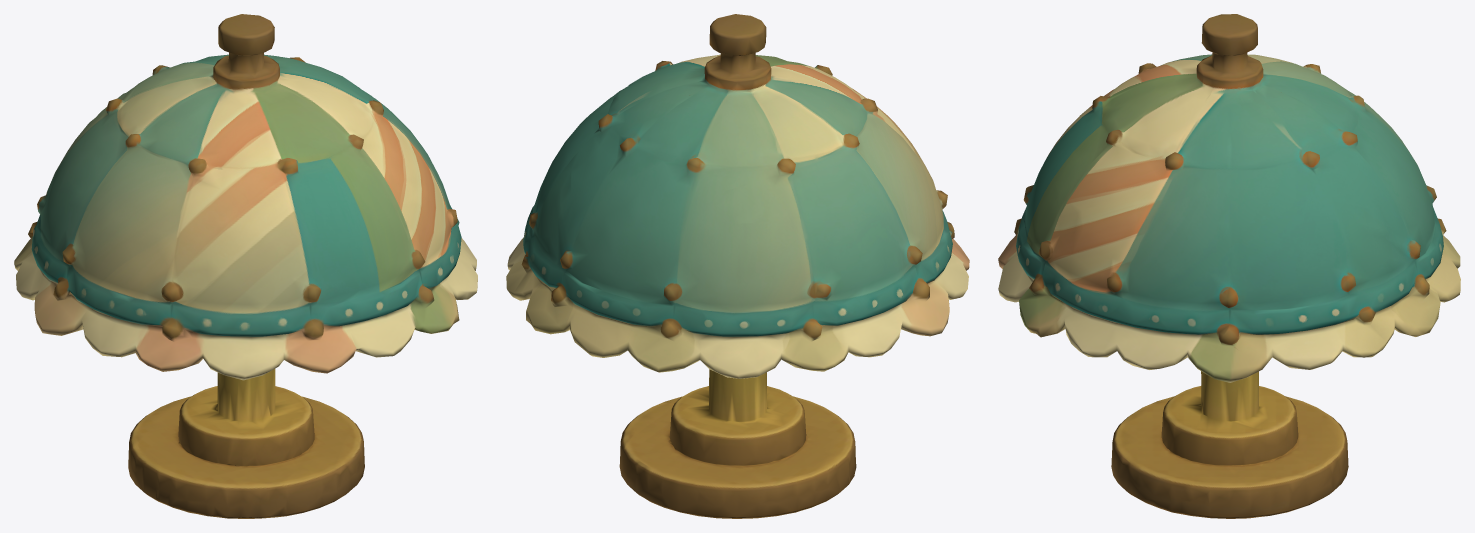
Rendered from decorative table lamp 3d model.glb.
3 views of the same model, side by side, from view 1: azimuth 30°, elevation 25°; view 2: azimuth 150°, elevation 25°; view 3: azimuth 270°, elevation 25° (orthographic).
Parts seen in each view (by area): view 1: tripo_node_37e088e7-251e-4216-a884-1229889932f1; view 2: tripo_node_37e088e7-251e-4216-a884-1229889932f1; view 3: tripo_node_37e088e7-251e-4216-a884-1229889932f1.
Boxes of the visible parts, x1,y1,x2,y2 form: tripo_node_37e088e7-251e-4216-a884-1229889932f1: (14, 14, 477, 518); tripo_node_37e088e7-251e-4216-a884-1229889932f1: (506, 14, 969, 518); tripo_node_37e088e7-251e-4216-a884-1229889932f1: (998, 14, 1460, 518).
Bounding box in the file's own units: 0.9629 × 1 × 0.94.
1 material, 1 textured.
